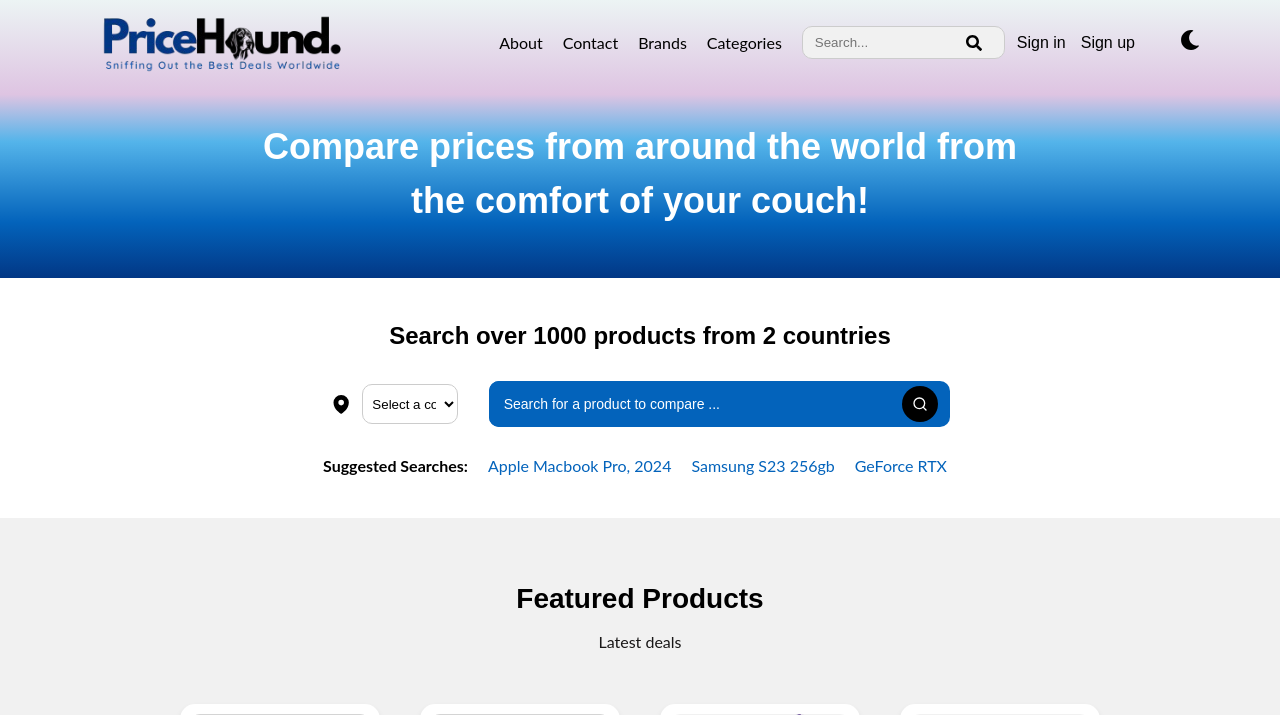
Test: NavBar › Navigates to Contact page when link is clicked
Click the link "Contact" at (590,43), box [563,31,618,55]
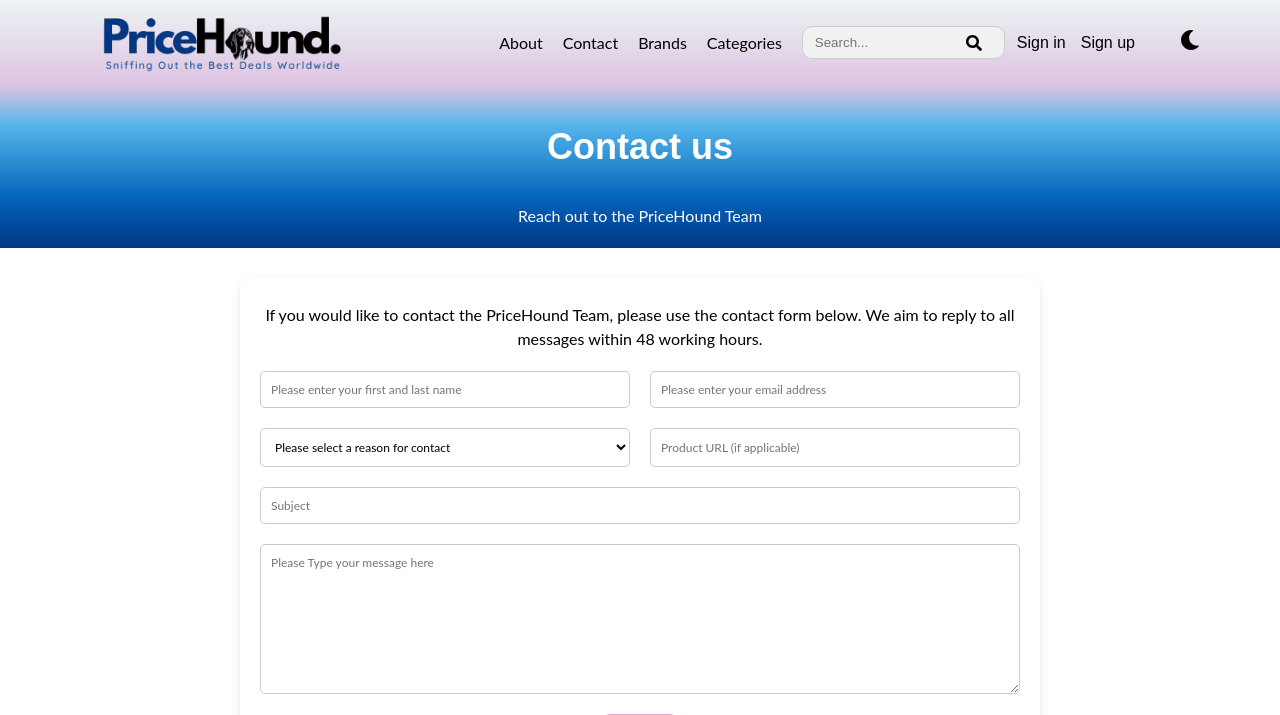
expect the heading "Contact us" is shown: met, box [547,126,733,167]
